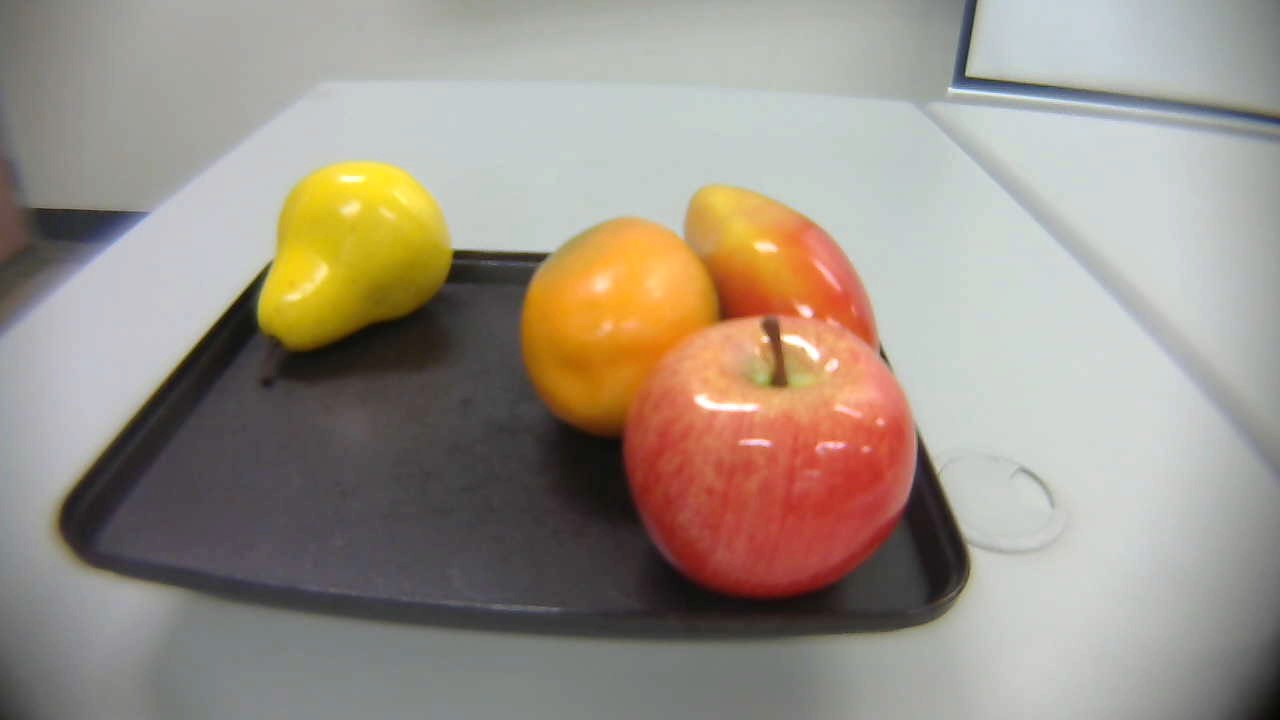papya: (513, 213, 740, 446)
red apple: (615, 306, 930, 609)
red mango: (665, 174, 892, 378)
yellow pear: (243, 149, 455, 383)
